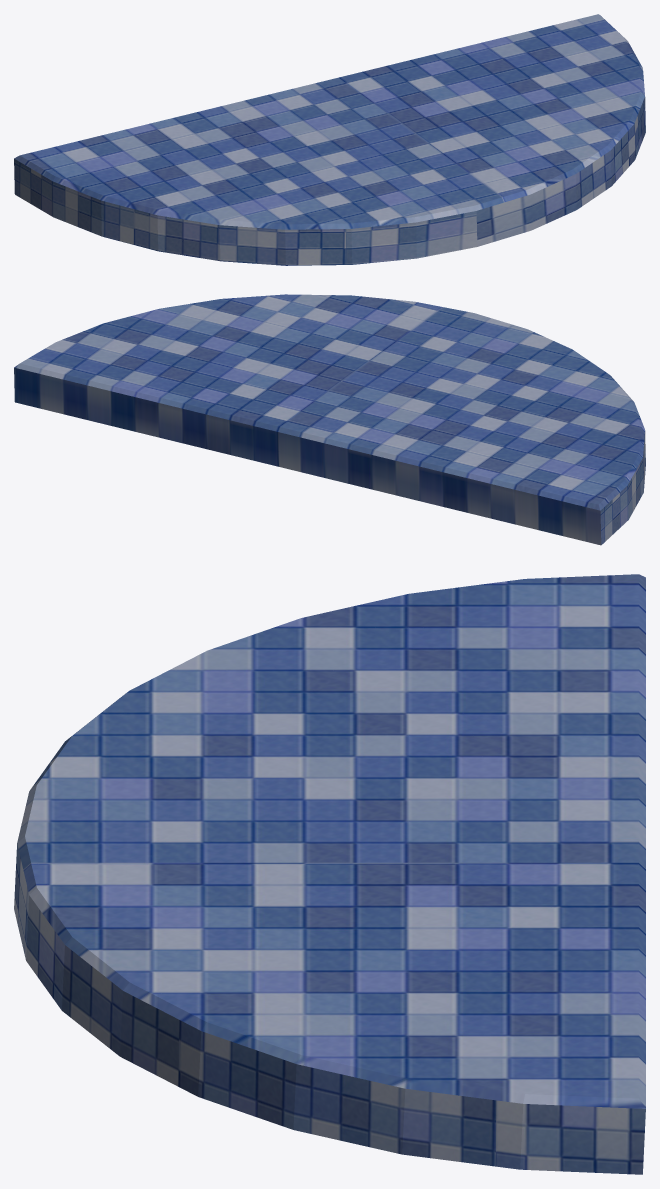
File: roundStep.glb
The picture shows the model from 3 angles, top to bottom: view 1: azimuth 30°, elevation 25°; view 2: azimuth 150°, elevation 25°; view 3: azimuth 270°, elevation 25°; orthographic projection. The views are drawn at different scales.
Parts seen in each view (by area): view 1: Round step; view 2: Round step; view 3: Round step.
Boxes of the visible parts, left/top/right/bottom form: Round step: left=14, top=14, right=645, bottom=265; Round step: left=14, top=294, right=645, bottom=545; Round step: left=14, top=574, right=645, bottom=1174.
Size of the model in its own units: 2.54 by 0.1615 by 1.27.
Materials: 1 (1 with a texture image).
